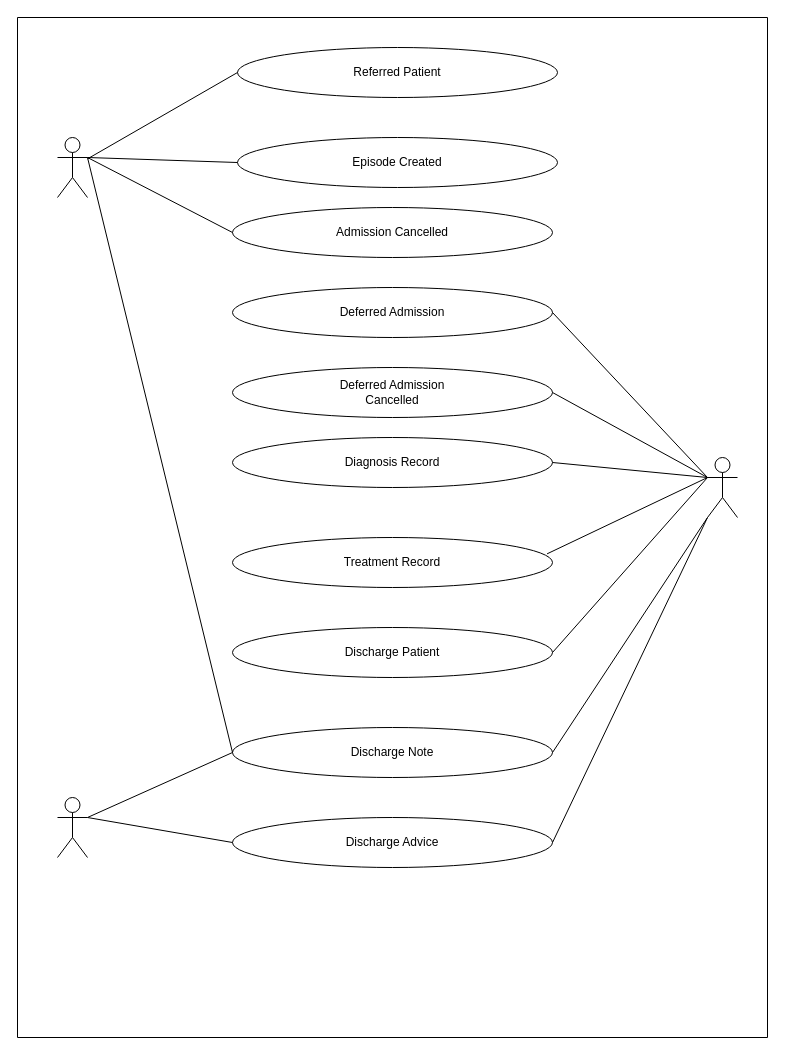
Image size: 785x1055. Some labels were removed from this diagram. The centre of each missing label's shape, as x and y in pixels:
"Community Doctor" belongs at point (72, 167).
"Hospital Doctor" belongs at point (722, 487).
"Patient" belongs at point (72, 827).
